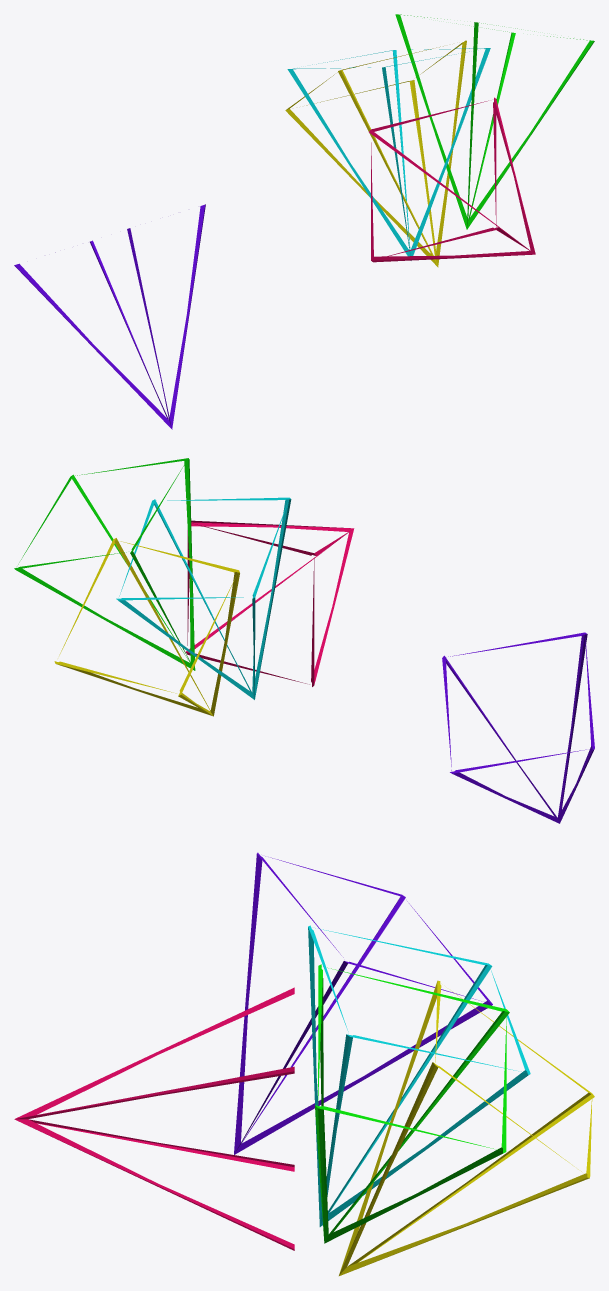
The model's file is pitch_180_wrist_video_40.glb.
The picture shows the model from 3 angles, top to bottom: view 1: azimuth 30°, elevation 25°; view 2: azimuth 150°, elevation 25°; view 3: azimuth 270°, elevation 25°; orthographic projection. The views are drawn at different scales.
Parts seen in each view (by area): view 1: world; view 2: world; view 3: world.
Part boxes in pixels (<box>): world: <box>14,14,594,429</box>; world: <box>14,458,594,823</box>; world: <box>14,852,594,1275</box>.
Bounding box in the file's own units: 0.4088 × 0.2151 × 0.2729.
